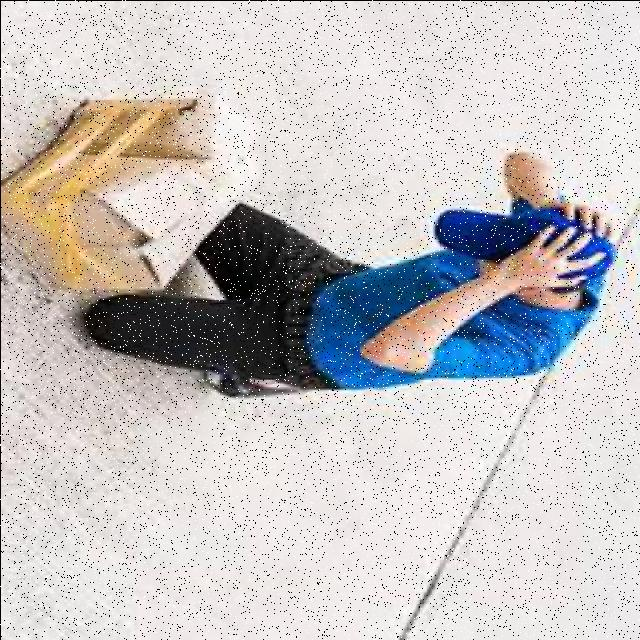defect: (0, 84, 240, 290)
